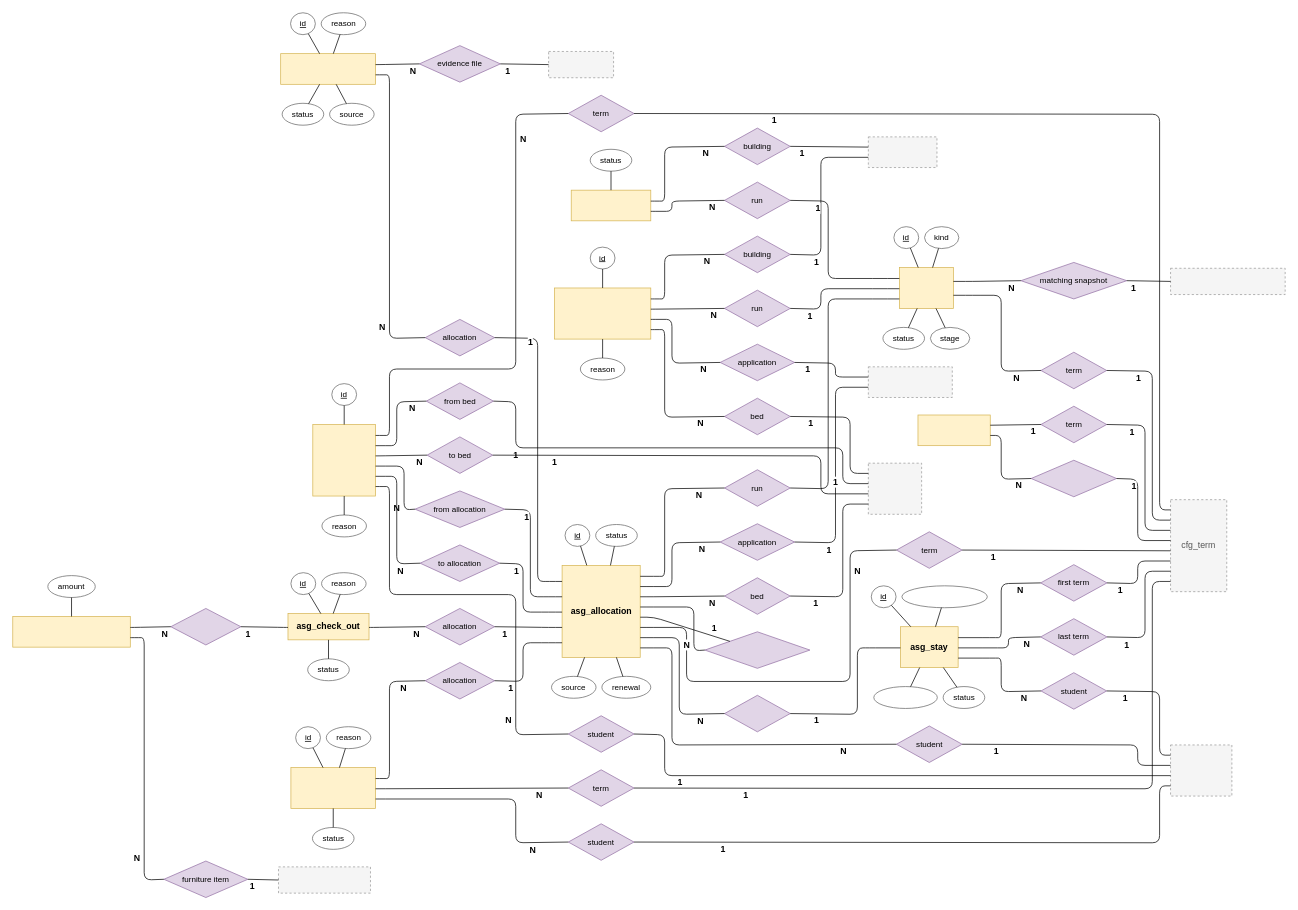
Image size: 1298x910. Some labels were removed from this diagram. Each missing label, with the centre of its shape:
"app_application" belongs at point (910, 381).
"asg_check_out_damage" belongs at point (71, 631).
"asg_late_check_in" belongs at point (328, 68).
"asg_move" belongs at point (344, 460).
"asg_proposal_item" belongs at point (602, 313).
"asg_renewal" belongs at point (953, 430).
"asg_run" belongs at point (926, 287).
"asg_run_block" belongs at point (610, 205).
"asg_termination" belongs at point (333, 787).
"auth_user" belongs at point (1201, 770).
"cfg_matching_snapshot" belongs at point (1227, 281).
"check out" belongs at point (205, 626).
"committed_terms" belongs at point (944, 596).
"inv_bed" belongs at point (895, 488).
"inv_building" belongs at point (902, 152).
"inv_furniture_item" belongs at point (324, 879).
"previous allocation" belongs at point (757, 649).
"previous term" belongs at point (1073, 478).
"shared_file" belongs at point (581, 64).
"stay" belongs at point (757, 713).
"terms_used" belongs at point (905, 697).
